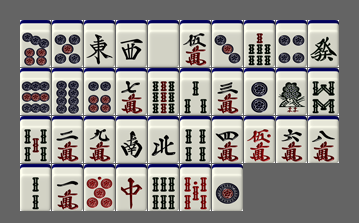0m: (244, 116, 275, 163)
0p: (84, 164, 115, 211)
0s: (180, 164, 211, 211)
1m: (52, 164, 83, 211)
1p: (212, 164, 243, 211)
1s: (276, 68, 307, 115)
1z: (84, 20, 115, 67)
2m: (52, 116, 83, 163)
2p: (244, 68, 275, 115)
2s: (20, 164, 51, 211)
2z: (116, 116, 147, 163)
3m: (212, 68, 243, 115)
3p: (212, 20, 243, 67)
3s: (180, 68, 211, 115)
3z: (116, 20, 147, 67)
4m: (212, 116, 243, 163)
4p: (276, 20, 307, 67)
4s: (180, 116, 211, 163)
4z: (148, 116, 179, 163)
5m: (180, 20, 211, 67)
5p: (52, 20, 83, 67)
5s: (20, 116, 51, 163)
5z: (148, 20, 179, 67)
6m: (276, 116, 307, 163)
6p: (84, 68, 115, 115)
6s: (148, 164, 179, 211)
6z: (308, 20, 339, 67)
7m: (116, 68, 147, 115)
7p: (20, 20, 51, 67)
7s: (244, 20, 275, 67)
7z: (116, 164, 147, 211)
8m: (308, 116, 339, 163)
8p: (52, 68, 83, 115)
8s: (308, 68, 339, 115)
9m: (84, 116, 115, 163)
9p: (20, 68, 51, 115)
9s: (148, 68, 179, 115)
